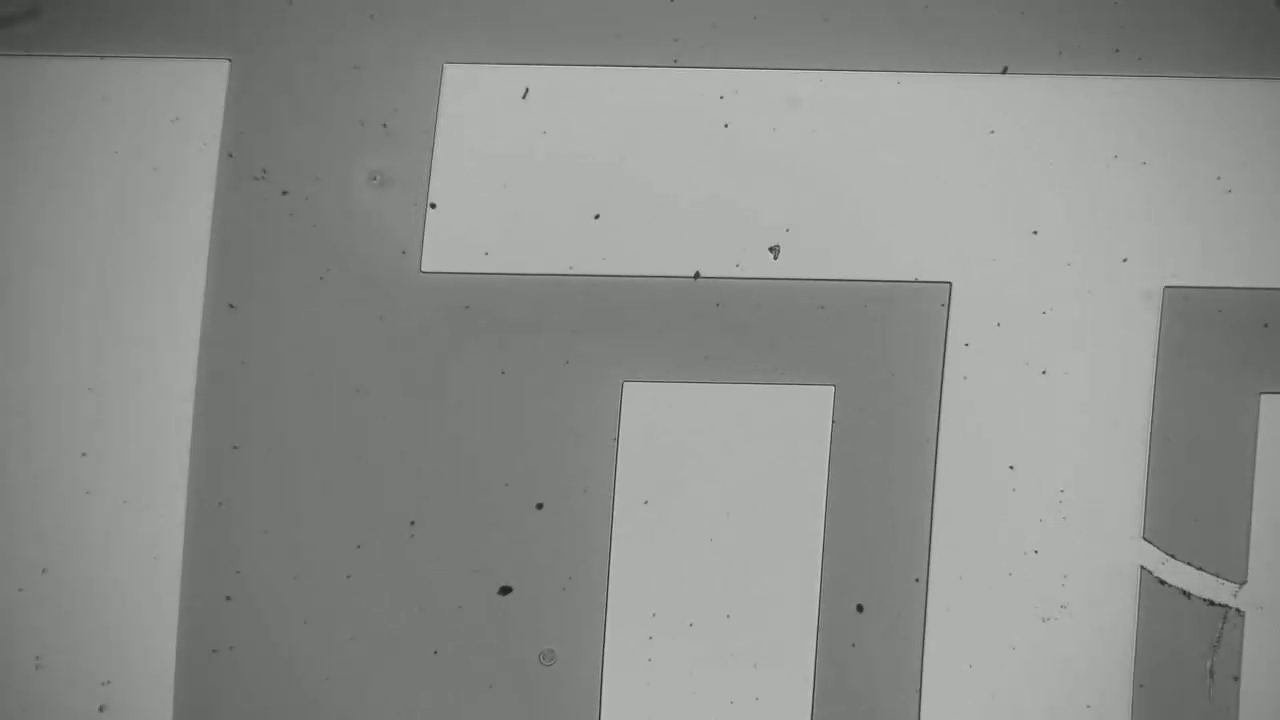Short_circuit: (1097, 511, 1267, 636)
